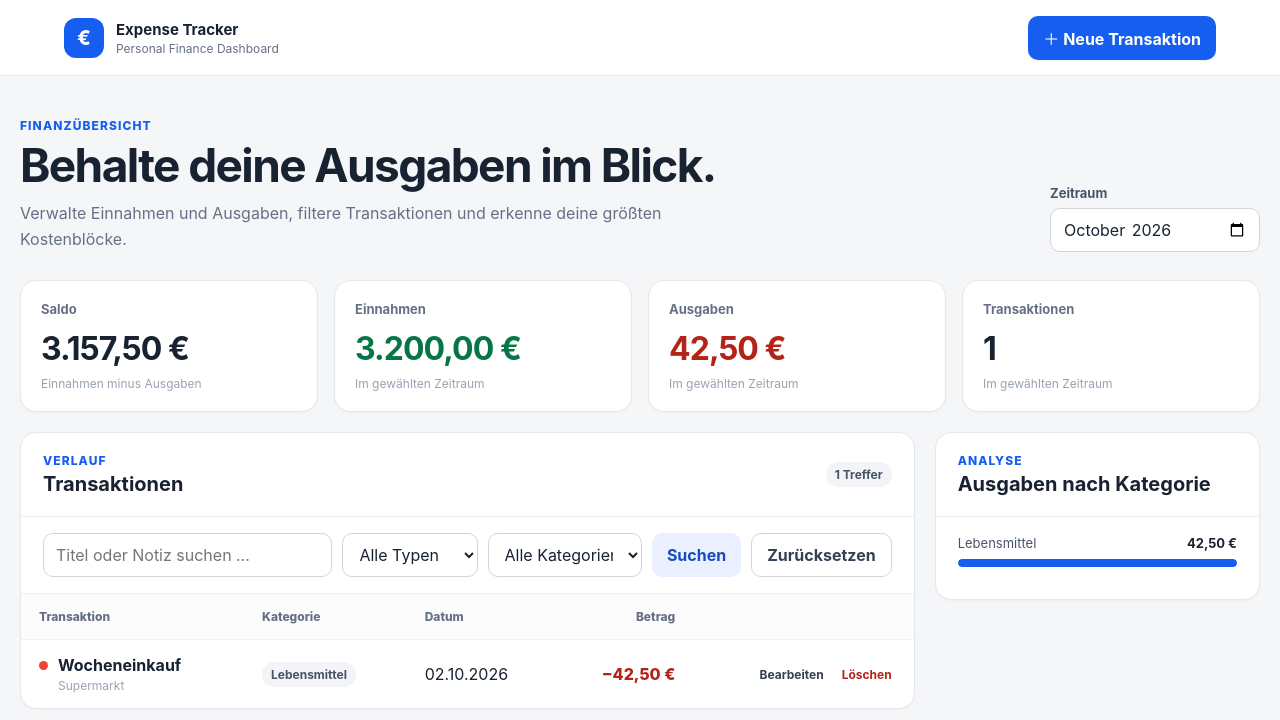
Expense Tracker › opens the transaction form
Expected: the text "Wocheneinkauf" is shown, [58, 655, 181, 675]
Click the button "＋ Neue Transaktion" at (1122, 38), box [1028, 16, 1216, 60]
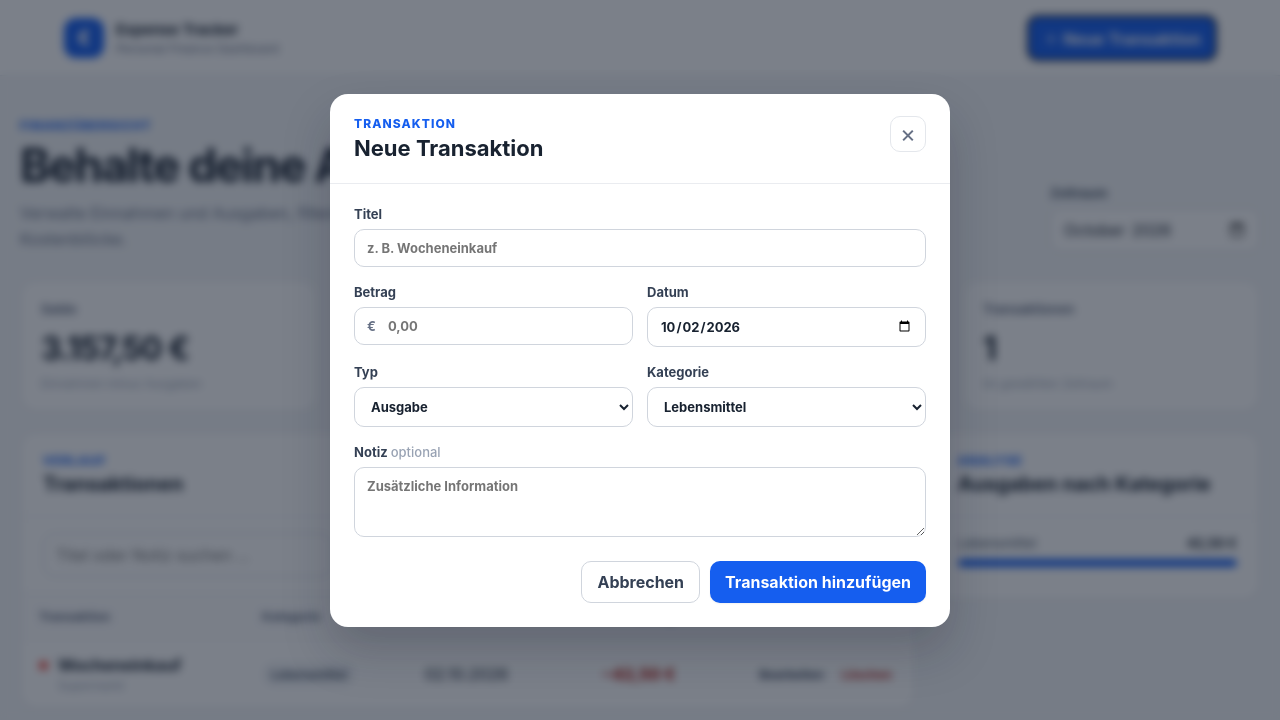
Expected: the dialog is shown, [330, 94, 950, 626]
Expected: the heading "Neue Transaktion" is shown, [354, 134, 544, 160]
